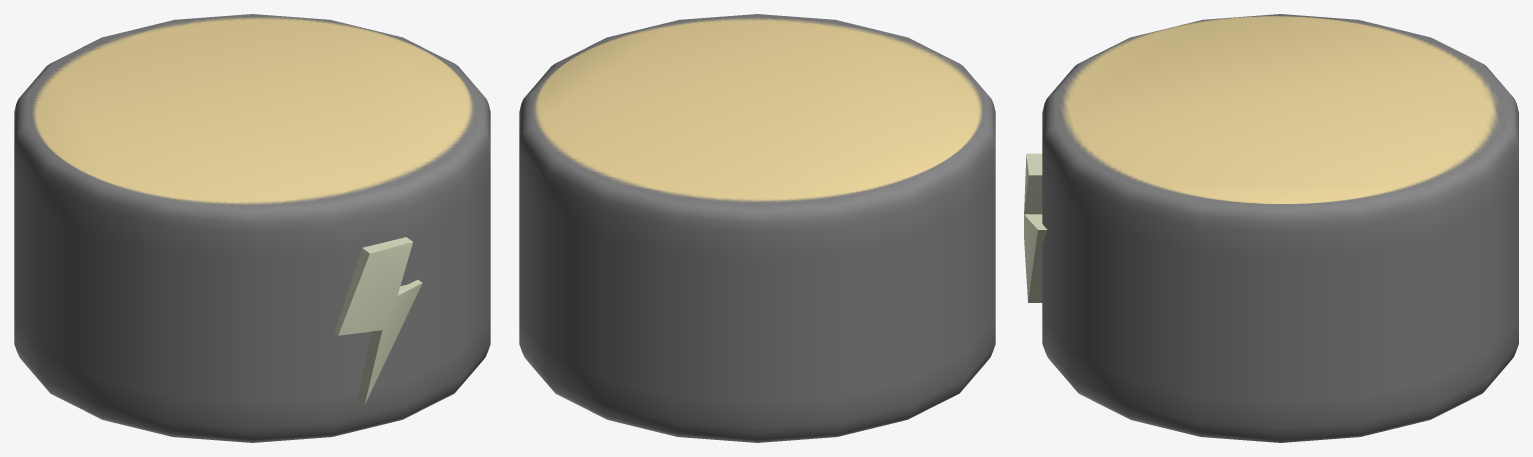
The picture shows the model from 3 angles, left to right: view 1: azimuth 30°, elevation 25°; view 2: azimuth 150°, elevation 25°; view 3: azimuth 270°, elevation 25°; orthographic projection.
Visible parts, largest first — view 1: WoodBlock5; view 2: WoodBlock5; view 3: WoodBlock5.
Boxes of the visible parts, x1,y1,x2,y2 form: WoodBlock5: (14, 14, 490, 442); WoodBlock5: (519, 14, 995, 442); WoodBlock5: (1024, 14, 1518, 442).
Size of the model in its own units: 801 by 432 by 819.
Materials: 1 (1 with a texture image).
